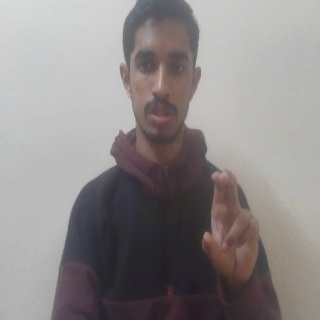No: (200, 167, 260, 283)
